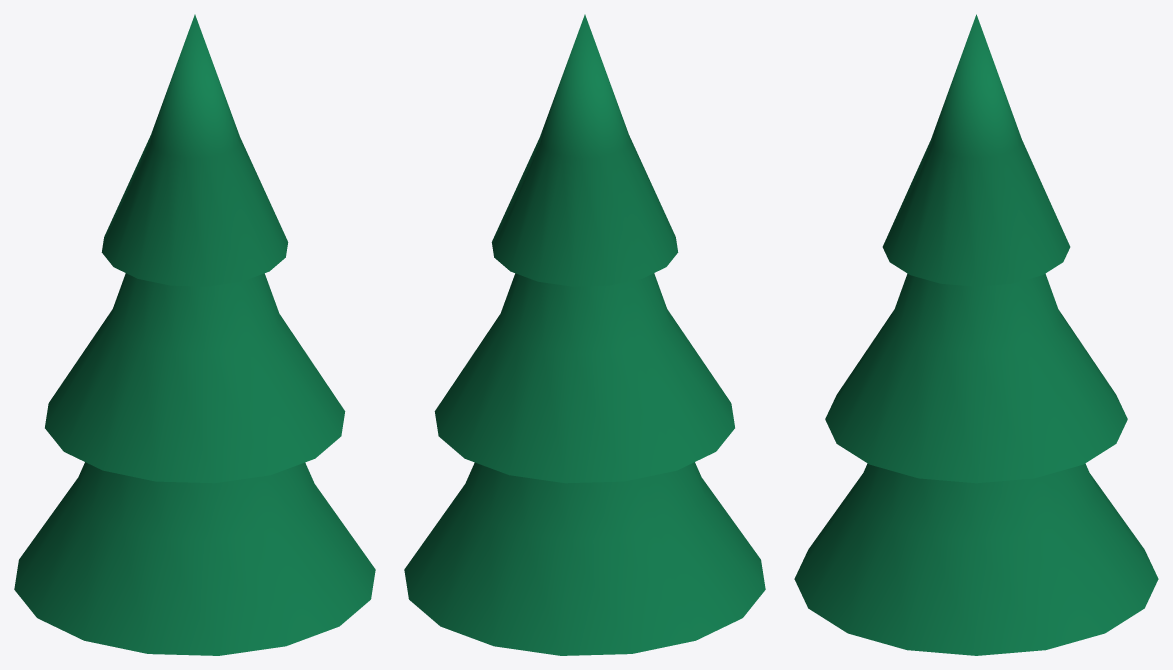
The model's file is pine01_s01.FBX.
3 renders of one model, left to right at view 1: azimuth 30°, elevation 25°; view 2: azimuth 150°, elevation 25°; view 3: azimuth 270°, elevation 25°, orthographic.
Visible parts, largest first — view 1: pine01_s01; view 2: pine01_s01; view 3: pine01_s01.
Part boxes in pixels (x1,y1,x2,y2): pine01_s01: [14, 14, 375, 655]; pine01_s01: [404, 14, 765, 655]; pine01_s01: [794, 14, 1158, 655].
Size of the model in its own units: 204 by 204 by 350.
Materials: 1 (1 with a texture image).
